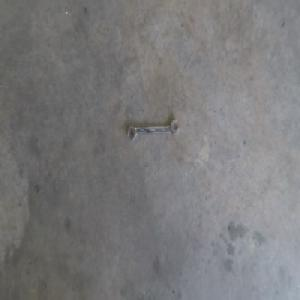Wrench: (127, 118, 182, 143)
